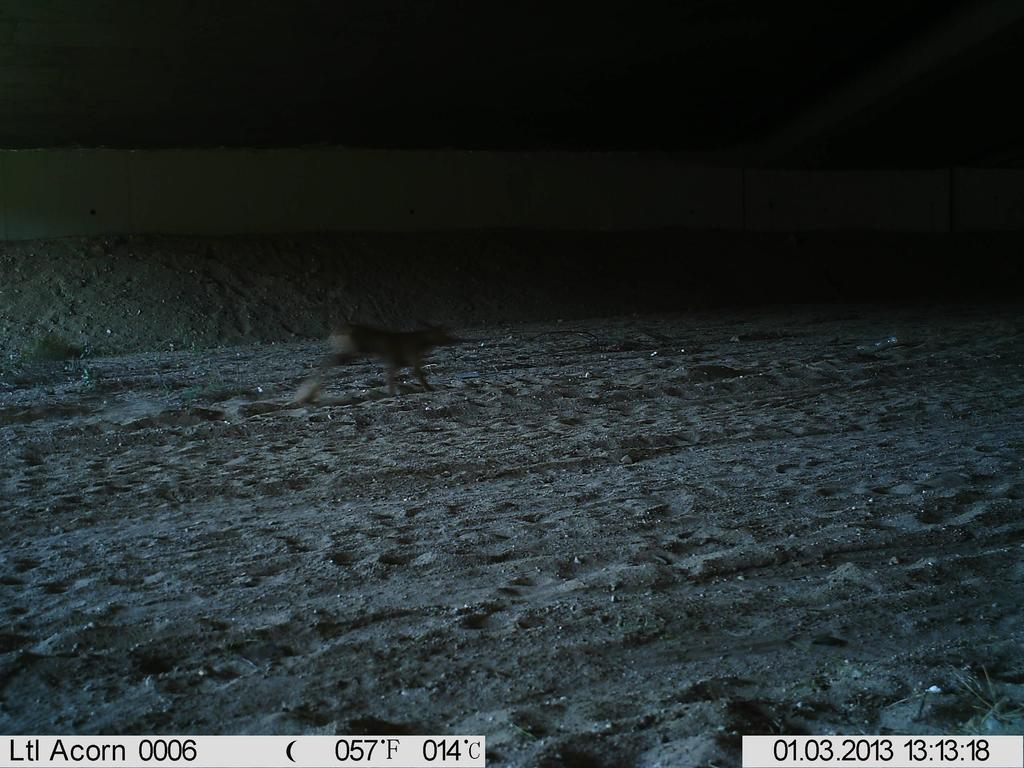dog: (283, 318, 466, 417)
